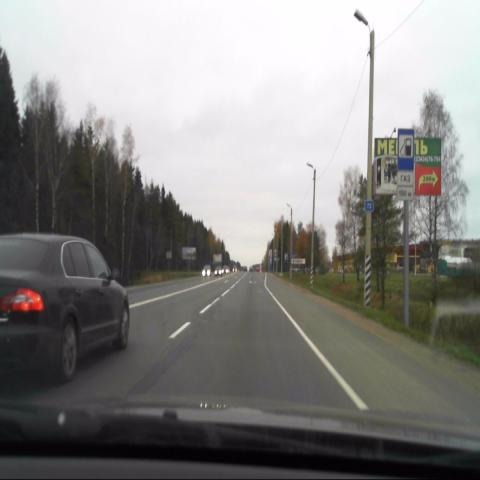7_3: (398, 127, 414, 172)
8_1_1: (396, 186, 414, 201)
